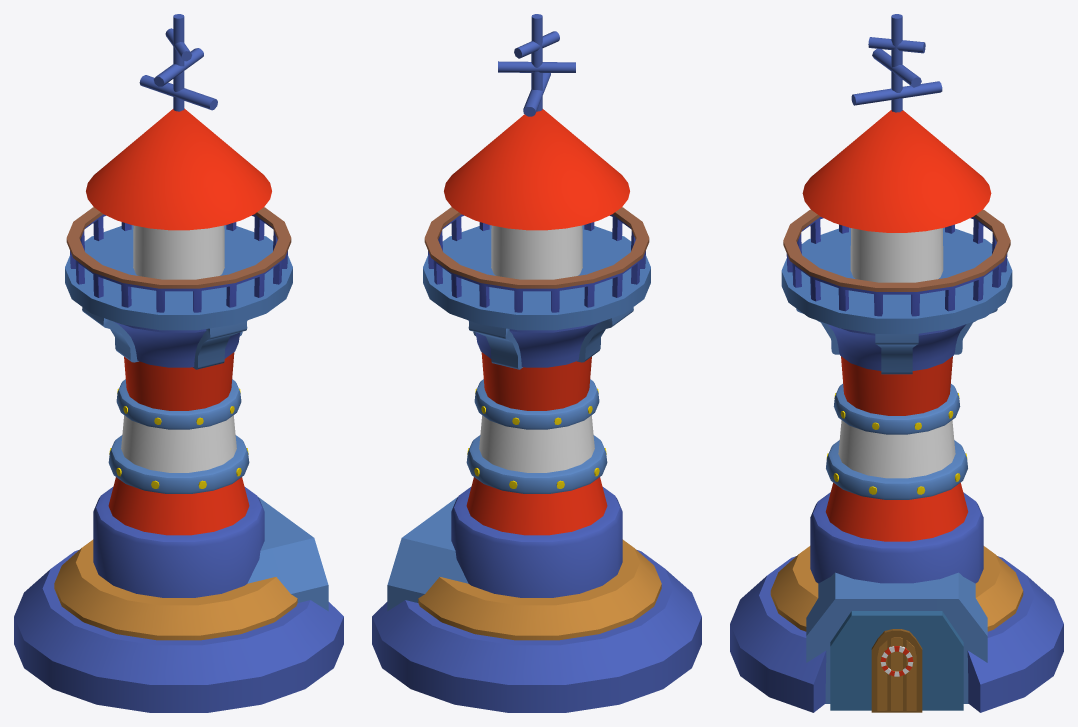
The model's file is Lighthouse.glb.
3 renders of one model, left to right at view 1: azimuth 30°, elevation 25°; view 2: azimuth 150°, elevation 25°; view 3: azimuth 270°, elevation 25°, orthographic.
Parts seen in each view (by area): view 1: Circle.039, Cone.002, Circle.071, Circle.042, Circle.041, Circle.043, Circle.066, Cube.133, Circle.068, Circle.067, Circle.073, Circle.069 (+4 smaller); view 2: Circle.039, Cone.002, Circle.071, Circle.042, Circle.041, Circle.043, Circle.066, Cube.133, Circle.068, Circle.067, Circle.073, Circle.069 (+4 smaller); view 3: Circle.039, Cone.002, Circle.071, Circle.042, Cube.131, Cube.133, Circle.043, Circle.066, Circle.041, Circle.068, Circle.067, Circle.073 (+7 smaller).
Part boxes in pixels (box(x1,y1,x2,y2)): Circle.039: box(14, 549, 343, 712); Cone.002: box(86, 108, 271, 230); Circle.071: box(65, 225, 292, 367); Circle.042: box(93, 486, 264, 597); Circle.041: box(54, 539, 297, 640); Circle.043: box(108, 477, 249, 535); Circle.066: box(121, 415, 236, 472); Cube.133: box(247, 497, 328, 611); Circle.068: box(133, 225, 224, 279); Circle.067: box(124, 352, 234, 410); Circle.073: box(66, 207, 291, 288); Circle.069: box(108, 435, 249, 493); Circle.039: box(372, 549, 701, 712); Cone.002: box(444, 109, 629, 230); Circle.071: box(423, 225, 650, 367); Circle.042: box(451, 486, 622, 597); Circle.041: box(418, 539, 661, 640); Circle.043: box(466, 477, 607, 535); Circle.066: box(479, 415, 594, 472); Cube.133: box(387, 497, 468, 611); Circle.068: box(491, 225, 582, 279); Circle.067: box(481, 352, 591, 410); Circle.073: box(424, 207, 649, 288); Circle.069: box(466, 435, 607, 493); Circle.039: box(730, 556, 1063, 712); Cone.002: box(802, 110, 991, 232); Circle.071: box(781, 227, 1012, 370); Circle.042: box(810, 492, 983, 583); Cube.131: box(830, 611, 963, 710); Cube.133: box(806, 572, 987, 703); Circle.043: box(825, 482, 968, 541); Circle.066: box(838, 420, 955, 478); Circle.041: box(770, 546, 1023, 631); Circle.068: box(850, 228, 943, 282); Circle.067: box(841, 356, 952, 415); Circle.073: box(783, 209, 1010, 291).
Bounding box in the file's own units: 2.1 × 4.79 × 2.27.
Materials: 1 (1 with a texture image).
